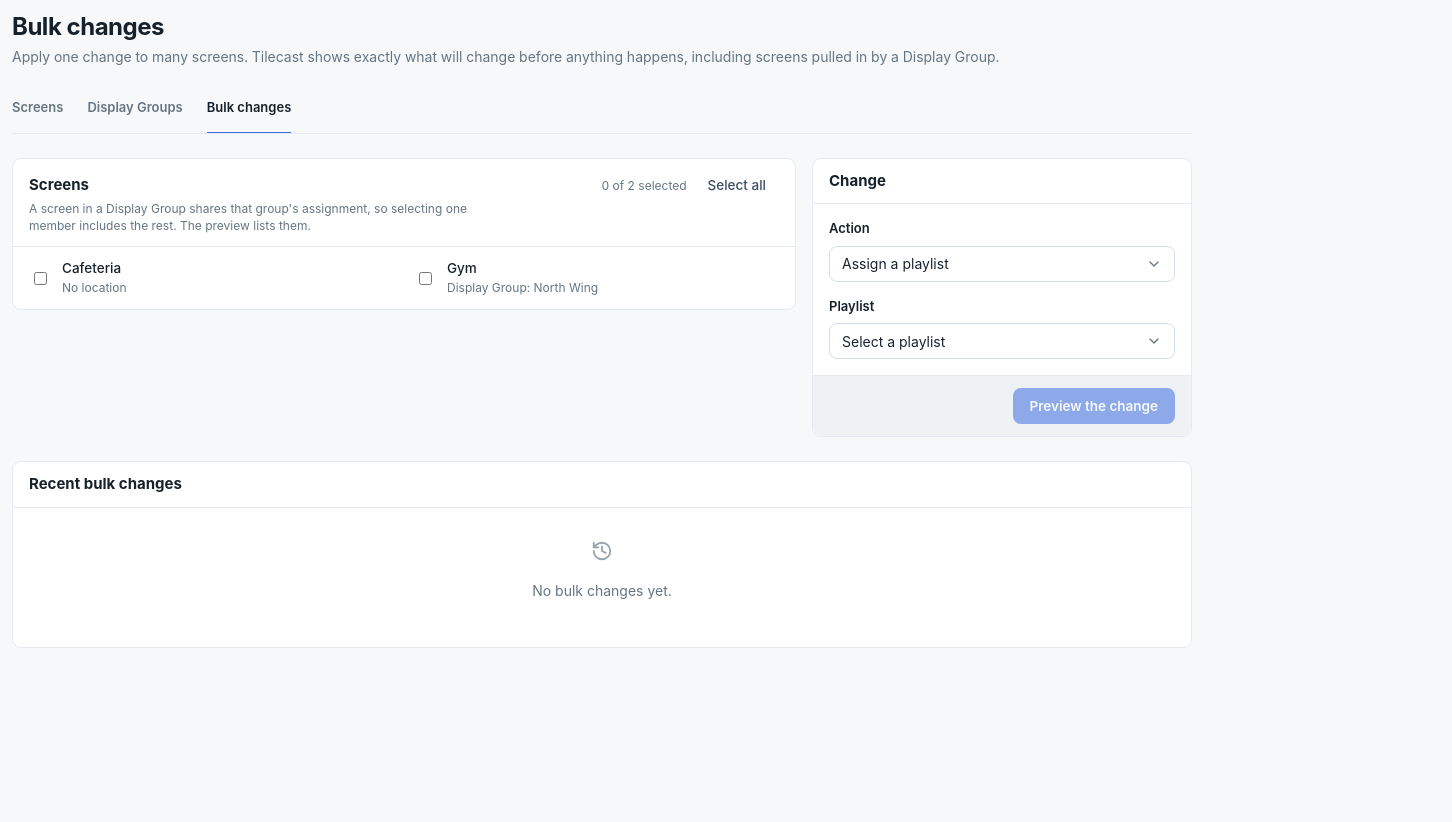
Test: Fleet bulk changes › names the screens pulled in by a Display Group before anything is applied
This screenshot has width=1452, height=822.
Click the checkbox labelled "Cafeteria No location".
click(40, 278)  # box [34,272,47,285]
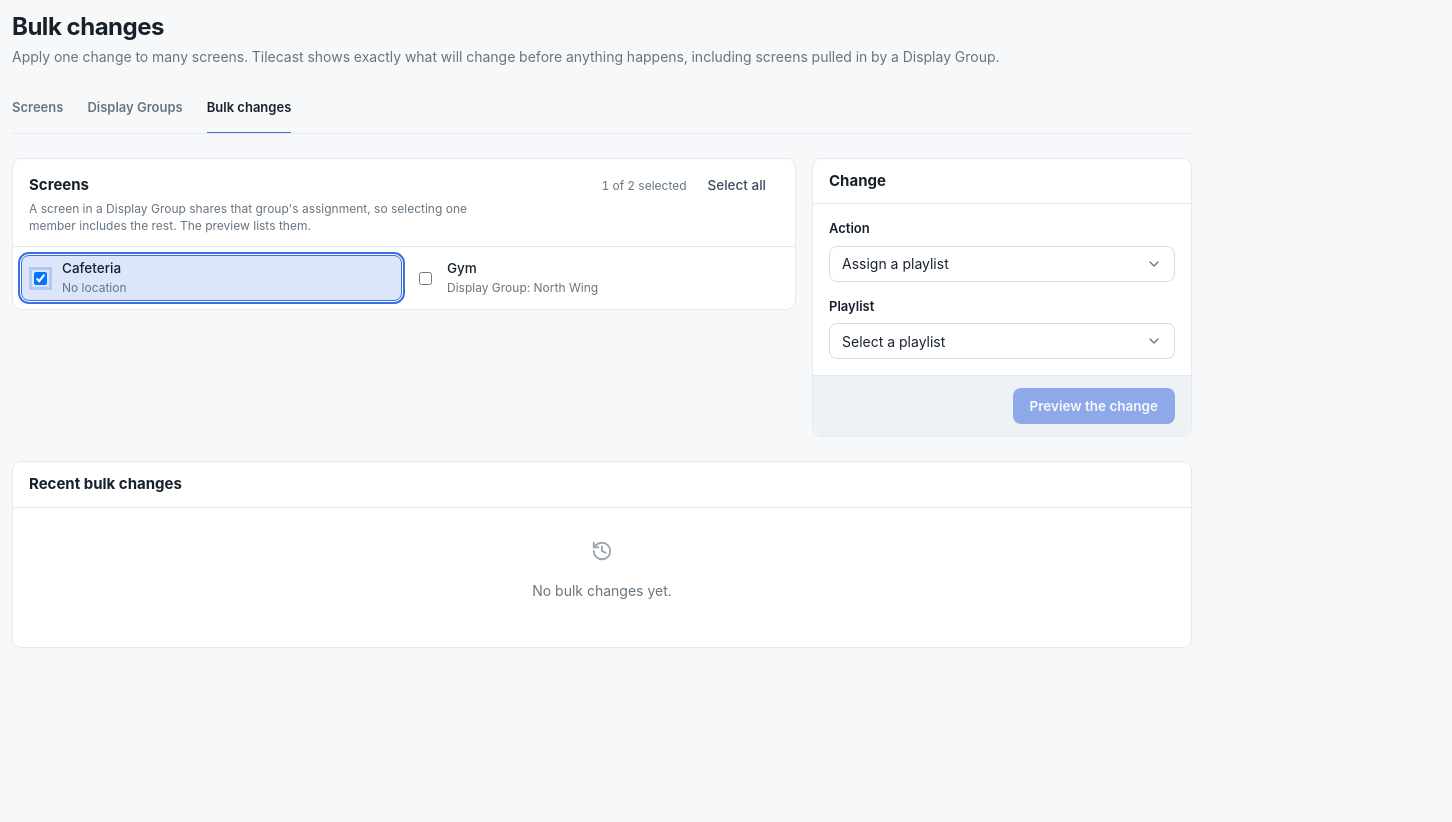
Click the dropdown labelled "playlist".
click(894, 341)  # box [829,323,1175,359]
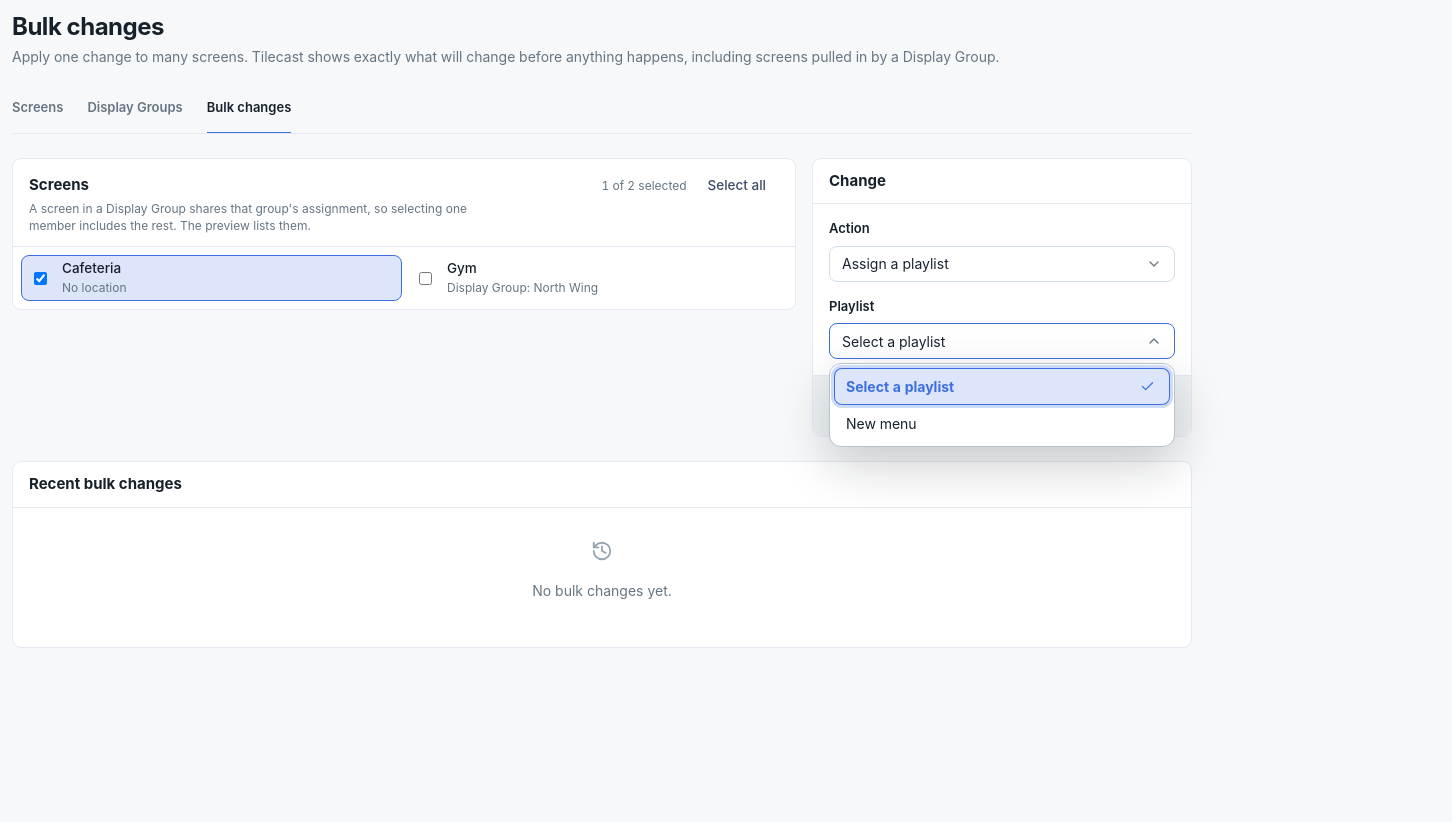
Click the option "New menu".
click(881, 424)  # box [834,405,1170,442]
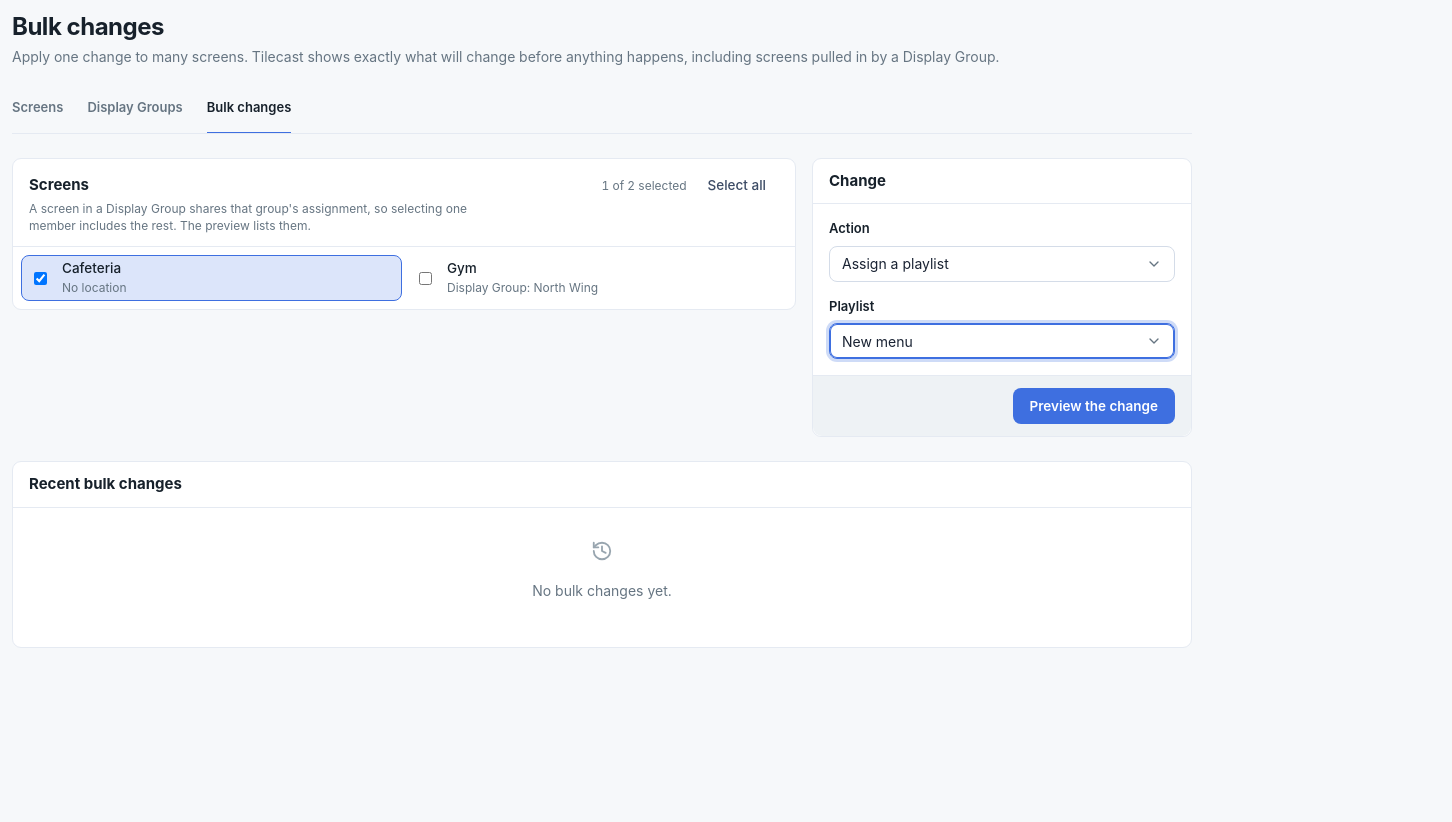
Click the button "Preview the change".
click(1094, 406)  # box [1012,388,1175,424]
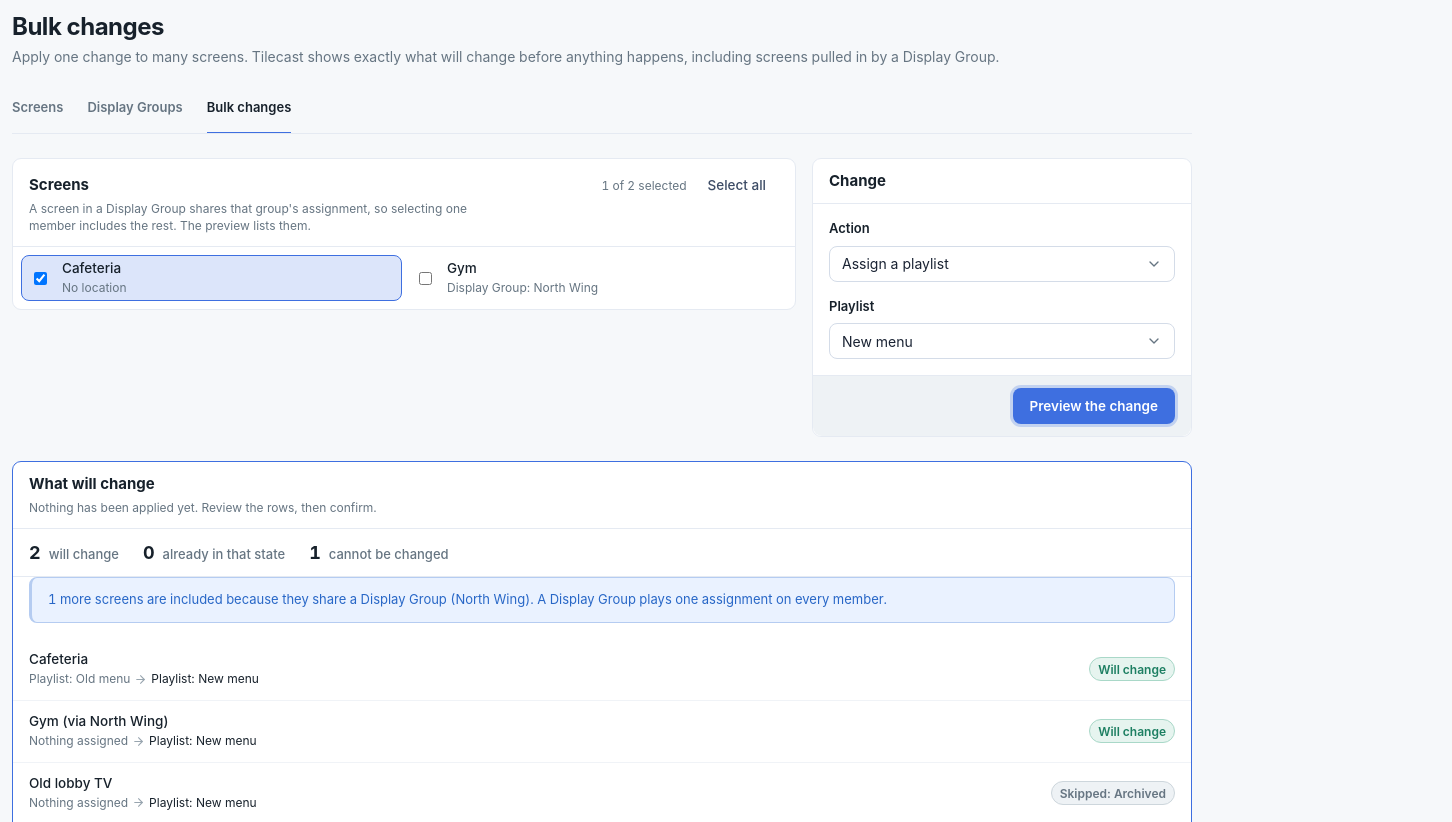
Expected: the text "Gym (via North Wing)" is shown, [29,713,168,729]
Expected: the text "share a Display Group" is shown, [48,591,887,607]
